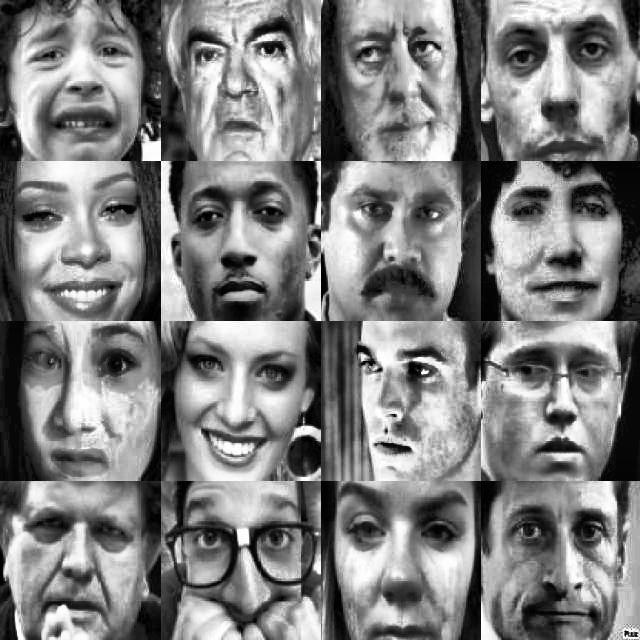angry: (20, 500, 146, 624)
fear: (29, 338, 158, 476), (180, 503, 303, 629), (502, 349, 613, 463)
happy: (503, 183, 620, 315), (181, 333, 303, 459), (28, 175, 137, 309), (503, 510, 619, 632)
neutral: (339, 324, 462, 464), (489, 27, 620, 156), (341, 179, 465, 307), (339, 19, 457, 153), (188, 20, 300, 151), (195, 179, 304, 305)
sad: (340, 502, 466, 636), (19, 11, 139, 143)
